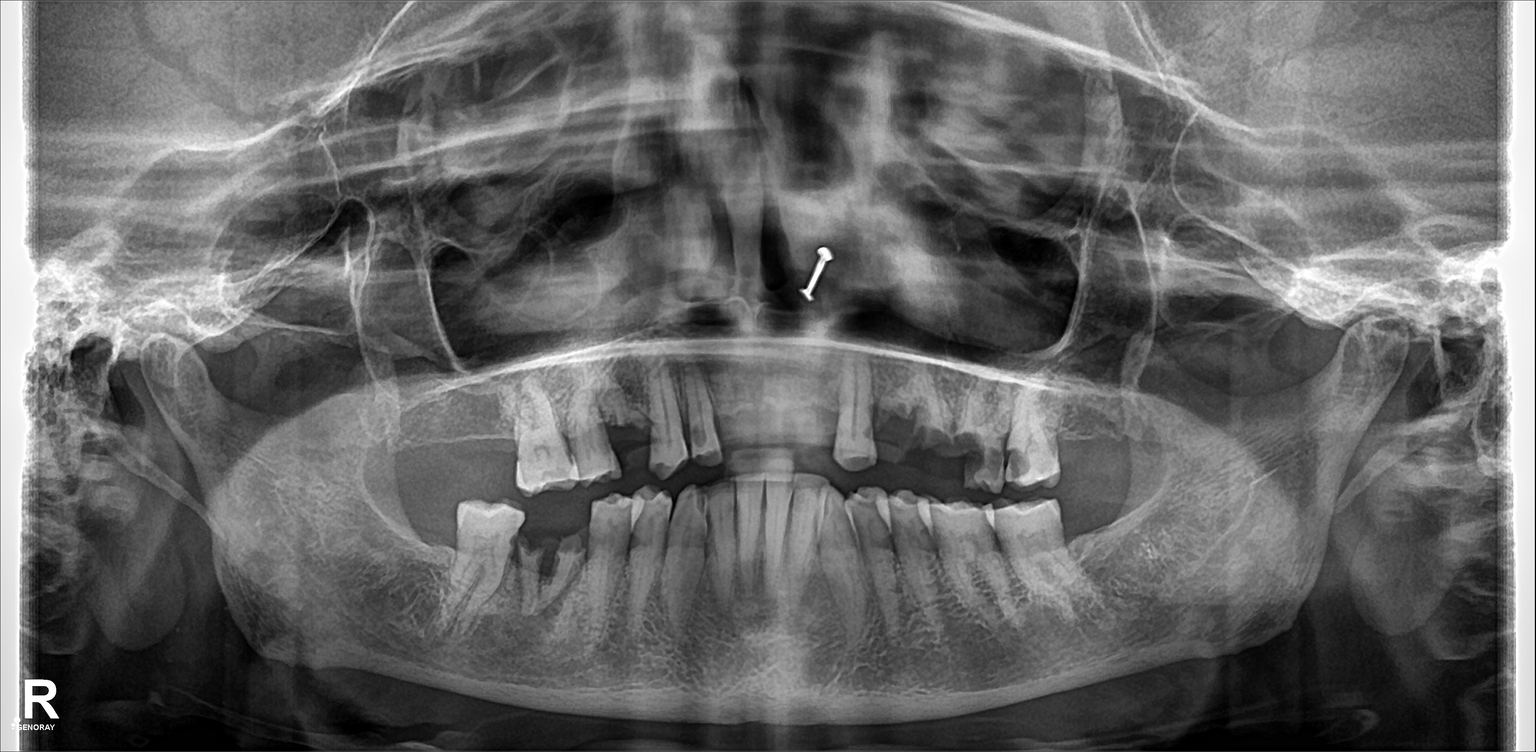Dental Caries: (870, 404, 909, 447), (953, 432, 983, 480), (991, 443, 1026, 475)
Missing Tooth: (402, 493, 456, 588), (1075, 493, 1126, 590), (775, 365, 825, 463), (1069, 393, 1125, 471), (395, 389, 441, 477), (721, 383, 764, 453), (447, 395, 481, 483), (484, 396, 517, 477)
Retained Root: (614, 374, 661, 471), (911, 367, 952, 465), (961, 365, 991, 495), (548, 510, 591, 597), (521, 521, 550, 602)
